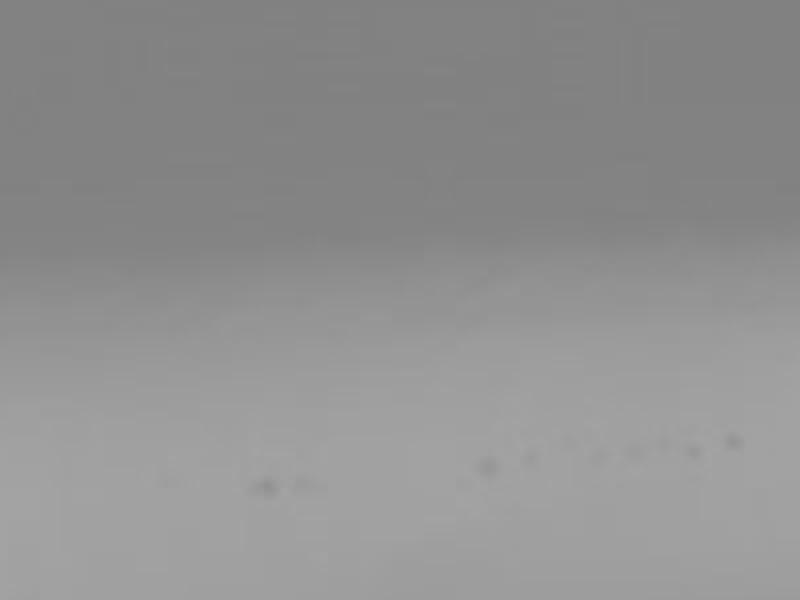defect: (474, 455, 505, 482), (247, 475, 278, 499), (686, 441, 707, 465), (724, 432, 747, 453)
